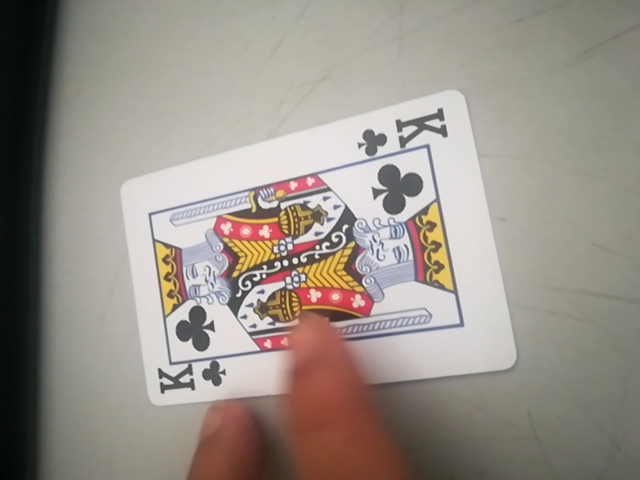mh k: (115, 99, 515, 410)
